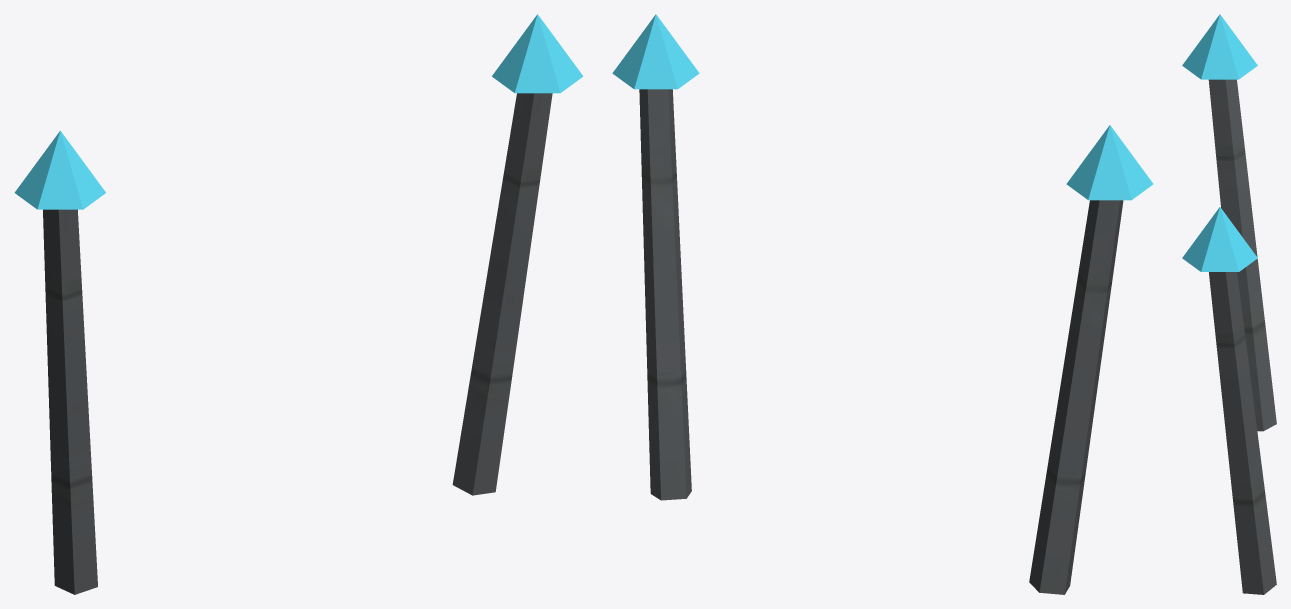
Rendered from acc_antenna.glb.
The picture shows the model from 3 angles, left to right: view 1: azimuth 30°, elevation 25°; view 2: azimuth 150°, elevation 25°; view 3: azimuth 270°, elevation 25°; orthographic projection. The views are drawn at different scales.
Visible parts, largest first — view 1: acc_antenna; view 2: acc_antenna; view 3: acc_antenna.
Boxes of the visible parts, left/top/right/bottom form: acc_antenna: left=14, top=14, right=583, bottom=594; acc_antenna: left=612, top=14, right=1153, bottom=594; acc_antenna: left=1182, top=14, right=1276, bottom=594.
Bounding box in the file's own units: 0.2746 × 0.2314 × 0.05.
Materials: 2 (1 with a texture image).
